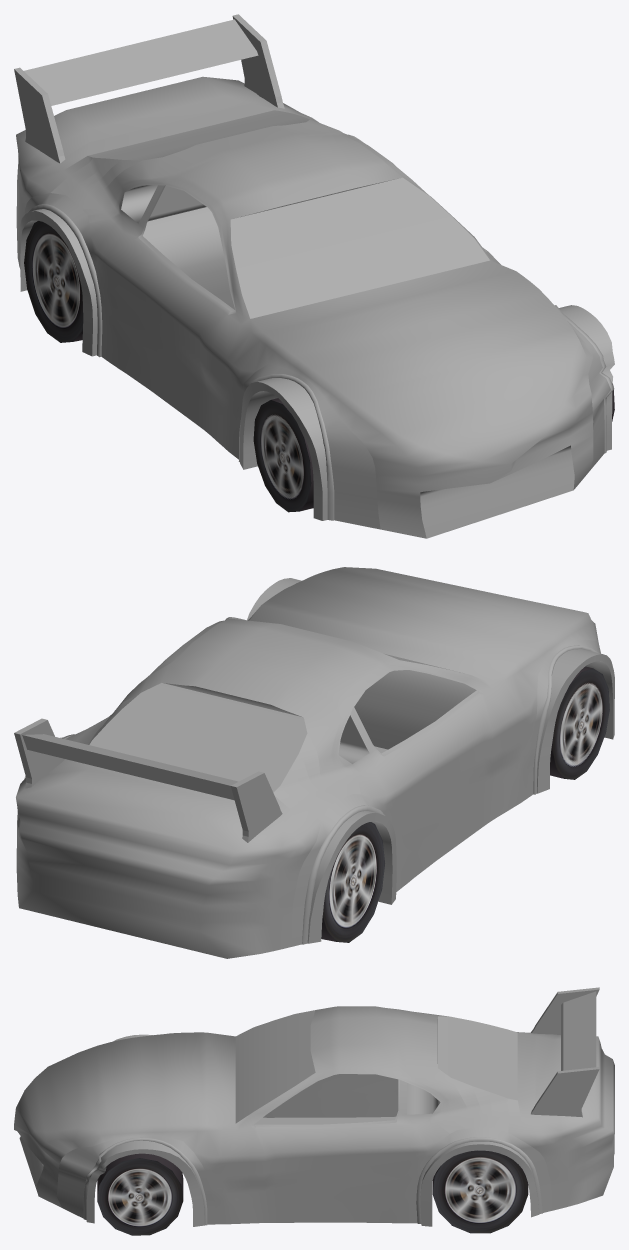
The model's file is Car_Test_Model_06_deformation01_Mike.fbx.
The picture shows the model from 3 angles, top to bottom: view 1: azimuth 30°, elevation 25°; view 2: azimuth 150°, elevation 25°; view 3: azimuth 270°, elevation 25°; orthographic projection. The views are drawn at different scales.
Visible parts, largest first — view 1: polySurface1, backLeftWheel1, frontRightWheel; view 2: polySurface1, backLeftWheel1, frontRightWheel; view 3: polySurface1, backLeftWheel, frontLeftWheel.
Boxes of the visible parts, box(x1,y1,x2,y2) form: polySurface1: box(14, 14, 614, 538); backLeftWheel1: box(24, 221, 83, 342); frontRightWheel: box(253, 398, 313, 512); polySurface1: box(14, 567, 614, 958); backLeftWheel1: box(321, 822, 384, 942); frontRightWheel: box(550, 666, 609, 779); polySurface1: box(14, 987, 614, 1226); backLeftWheel: box(432, 1150, 528, 1233); frontLeftWheel: box(97, 1153, 183, 1235).
Bounding box in the file's own units: 12.33 × 7.62 × 27.3.
